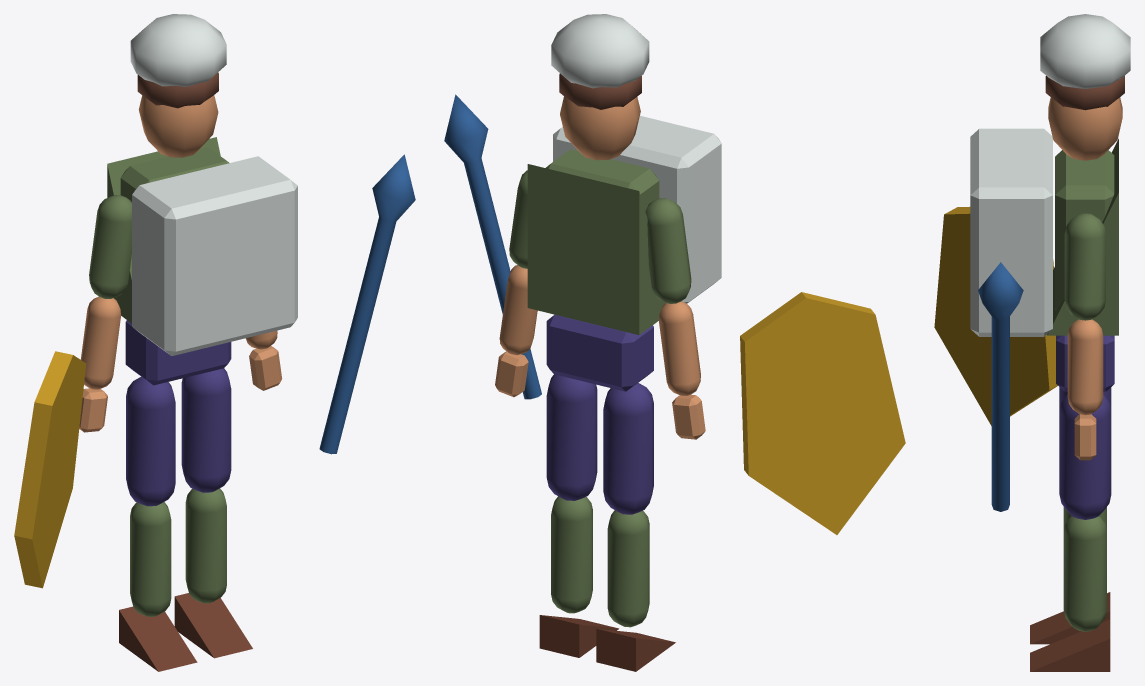
Rendered from adventurer.rustic.glb.
3 views of the same model, side by side, from view 1: azimuth 30°, elevation 25°; view 2: azimuth 150°, elevation 25°; view 3: azimuth 270°, elevation 25° (orthographic).
Visible parts, largest first — view 1: accessory.body, accessory.off-hand, accessory.main-hand, thigh.left, thigh.right, accessory.head, shin.right, shin.left, upper-arm.left, head, pelvis, foot.right (+7 smaller); view 2: accessory.off-hand, tunic, accessory.body, pelvis, thigh.left, thigh.right, accessory.head, accessory.main-hand, shin.left, shin.right, upper-arm.left, head (+9 smaller); view 3: accessory.body, accessory.off-hand, accessory.head, accessory.main-hand, thigh.right, shin.right, torso, upper-arm.right, head, forearm.right, tunic, foot.right (+4 smaller).
Part boxes in pixels (bbox=[...]): accessory.body: bbox=[132, 156, 297, 355]; accessory.off-hand: bbox=[14, 351, 86, 588]; accessory.main-hand: bbox=[319, 154, 415, 454]; thigh.left: bbox=[126, 376, 175, 506]; thigh.right: bbox=[181, 368, 231, 492]; accessory.head: bbox=[130, 14, 226, 86]; shin.right: bbox=[185, 488, 226, 603]; shin.left: bbox=[130, 502, 171, 616]; upper-arm.left: bbox=[89, 195, 131, 298]; head: bbox=[138, 95, 218, 157]; pelvis: bbox=[125, 320, 231, 385]; foot.right: bbox=[174, 593, 252, 658]; accessory.off-hand: bbox=[740, 292, 905, 534]; tunic: bbox=[527, 164, 666, 334]; accessory.body: bbox=[553, 115, 721, 303]; pelvis: bbox=[546, 314, 653, 391]; thigh.left: bbox=[603, 383, 653, 514]; thigh.right: bbox=[546, 374, 597, 500]; accessory.head: bbox=[551, 14, 649, 88]; accessory.main-hand: bbox=[444, 94, 541, 399]; shin.left: bbox=[607, 510, 649, 627]; shin.right: bbox=[551, 496, 592, 613]; upper-arm.left: bbox=[645, 198, 691, 303]; head: bbox=[560, 96, 640, 160]; accessory.body: bbox=[970, 128, 1052, 336]; accessory.off-hand: bbox=[934, 206, 1057, 425]; accessory.head: bbox=[1040, 14, 1130, 88]; accessory.main-hand: bbox=[978, 262, 1023, 511]; thigh.right: bbox=[1059, 395, 1111, 519]; shin.right: bbox=[1063, 516, 1106, 631]; torso: bbox=[1055, 150, 1114, 309]; upper-arm.right: bbox=[1064, 213, 1105, 320]; head: bbox=[1048, 97, 1122, 160]; forearm.right: bbox=[1067, 319, 1103, 415]; tunic: bbox=[1047, 138, 1118, 335]; foot.right: bbox=[1030, 619, 1110, 671].
Bounding box in the file's own units: 2.29 × 3.2 × 0.9041.
